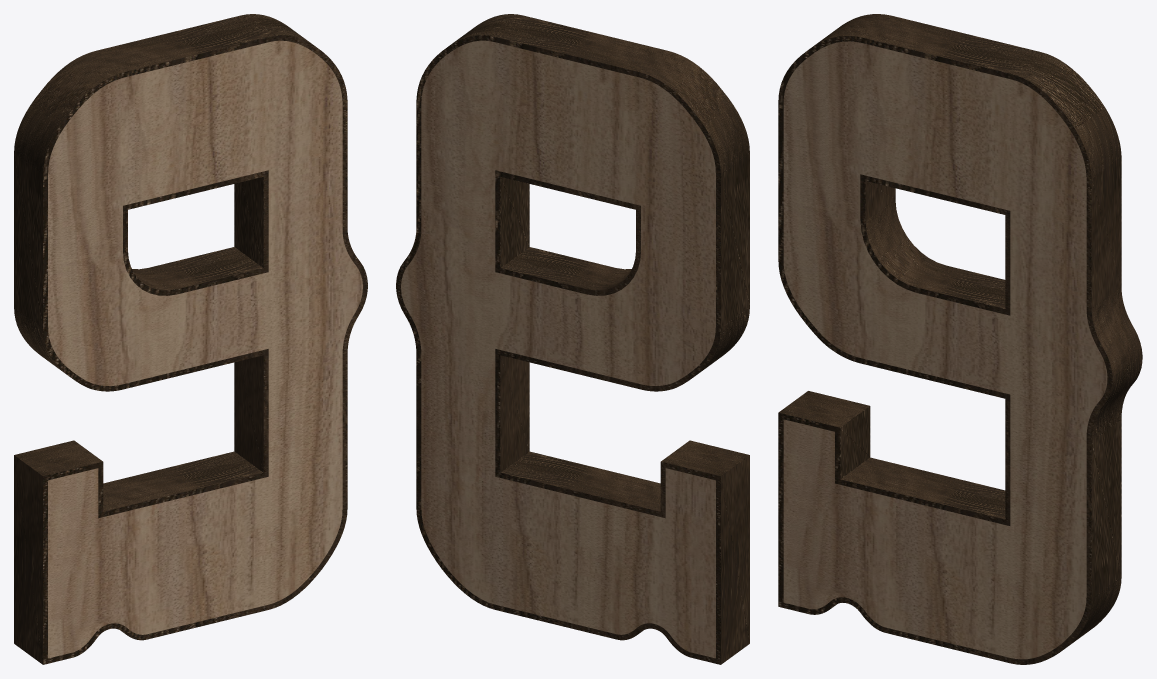
3 renders of one model, left to right at view 1: azimuth 30°, elevation 25°; view 2: azimuth 150°, elevation 25°; view 3: azimuth 330°, elevation 25°, orthographic. The views are drawn at different scales.
Parts seen in each view (by area): view 1: 9, 9_outline; view 2: 9, 9_outline; view 3: 9, 9_outline.
Boxes of the visible parts, x1,y1,x2,y2 form: 9: (48, 40, 362, 658); 9_outline: (14, 14, 367, 664); 9: (401, 40, 715, 658); 9_outline: (396, 14, 749, 664); 9: (783, 41, 1107, 659); 9_outline: (778, 14, 1142, 664).
Bounding box in the file's own units: 64.56 × 109 × 10.
Materials: 2 (2 with a texture image).
